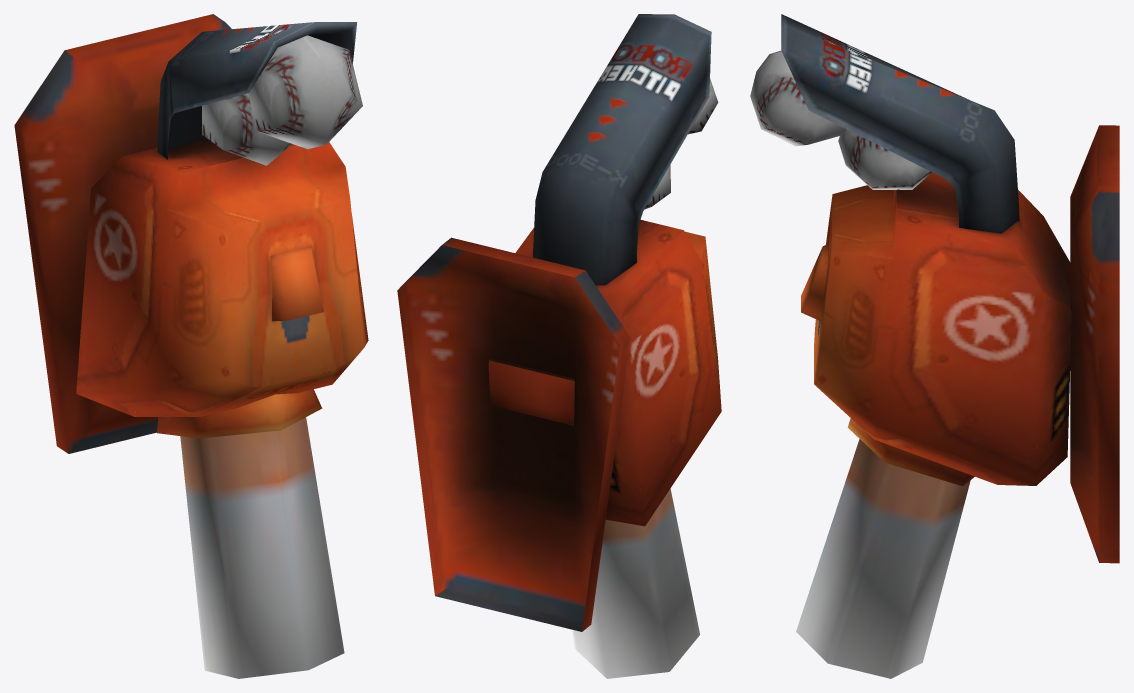
File: Skill_Mike_01_01_37279b8a__Skill_Mike_01_01_3430e61a_c1f257.obj
3 views of the same model, side by side, from view 1: azimuth 30°, elevation 25°; view 2: azimuth 150°, elevation 25°; view 3: azimuth 270°, elevation 25° (orthographic). The views are drawn at different scales.
Size of the model in its own units: 0.6548 by 1.72 by 0.9.
1 material, 1 textured.
